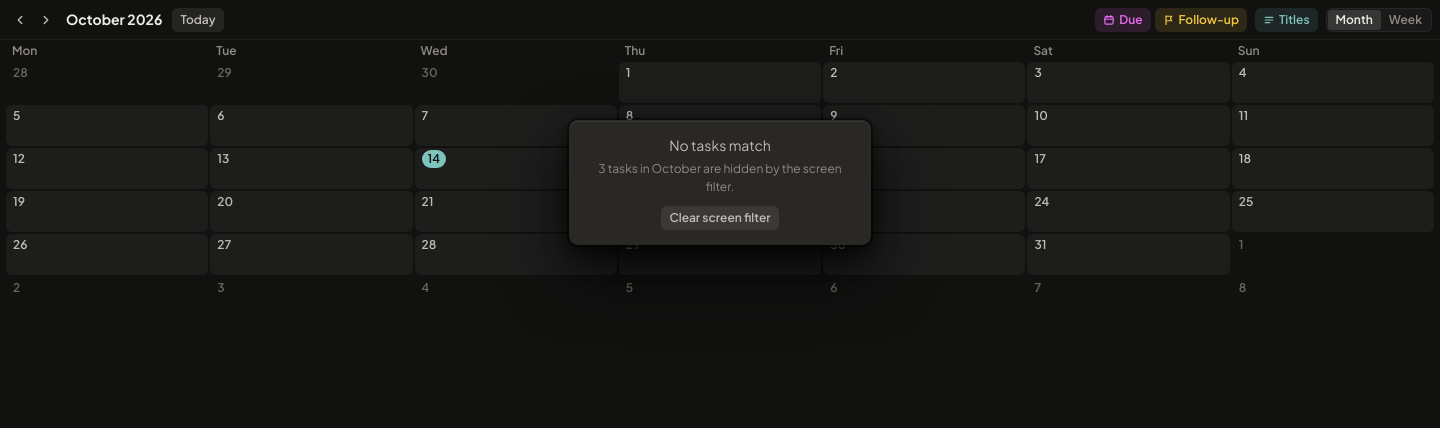
Test case: CalendarWidget › a screen filter hiding everything in view: counts them and offers to clear it
Expected: the element with test id "calendar-empty" shows "No tasks match", [669, 136, 771, 154]
Expected: the element with test id "calendar-empty" shows "3 tasks in October are hidden by the screen filter.", [570, 120, 870, 244]
Click the button "Clear screen filter".
click(720, 218)  # box [661, 206, 779, 230]
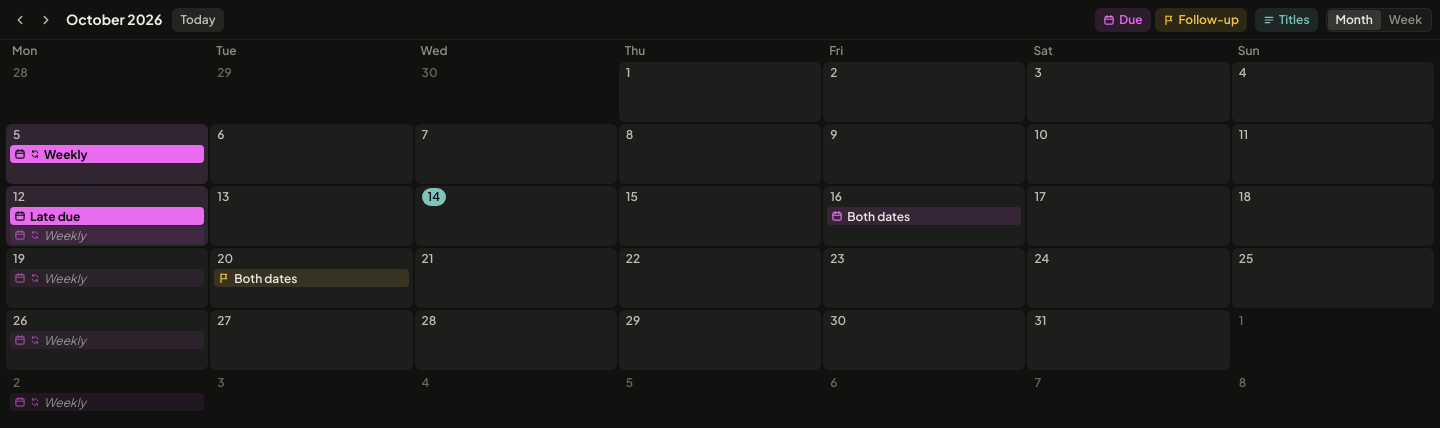
Expected: the element with test id "calendar-empty" is gone
